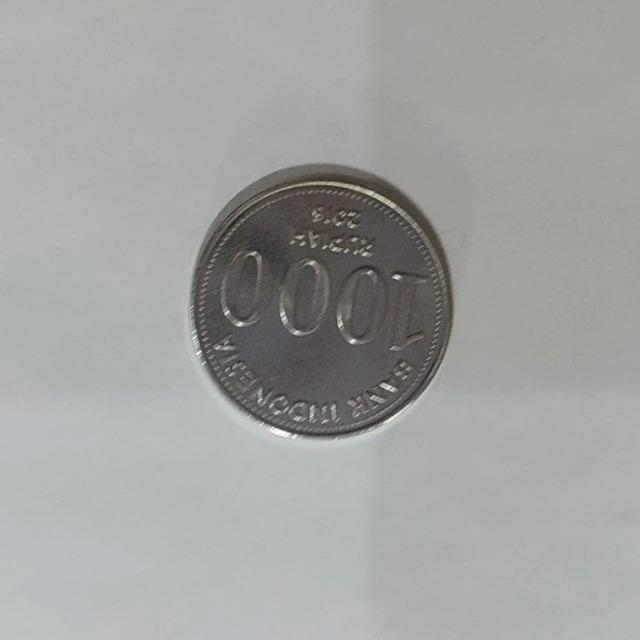Rp100: (186, 161, 454, 441)
